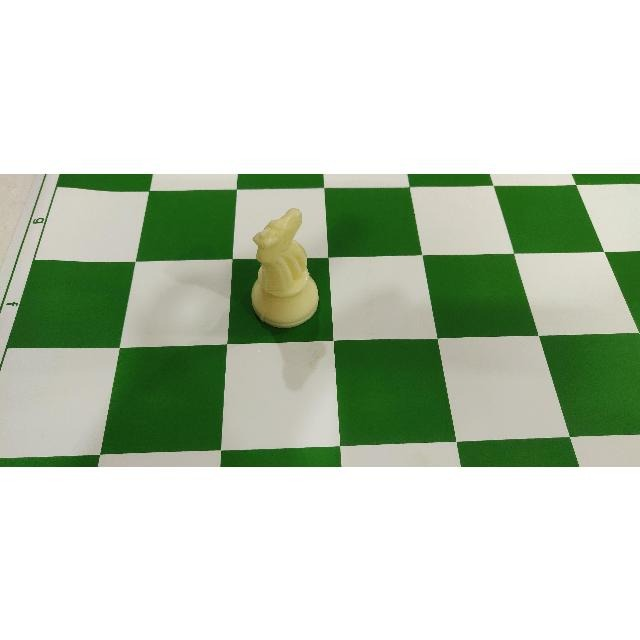white-knight: (240, 204, 324, 330)
